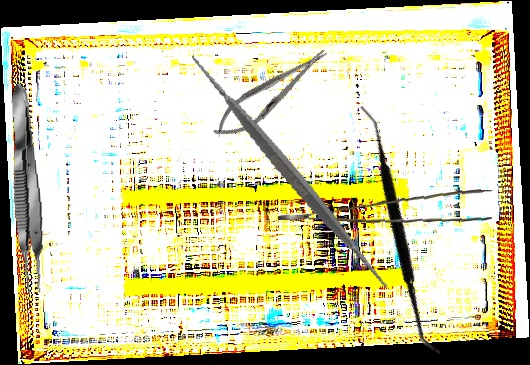Needle Holder: (205, 38, 337, 149)
Spatula Surgical: (155, 37, 425, 306), (272, 102, 529, 358)
Tissue Forceps: (277, 178, 494, 232), (5, 80, 49, 297)
